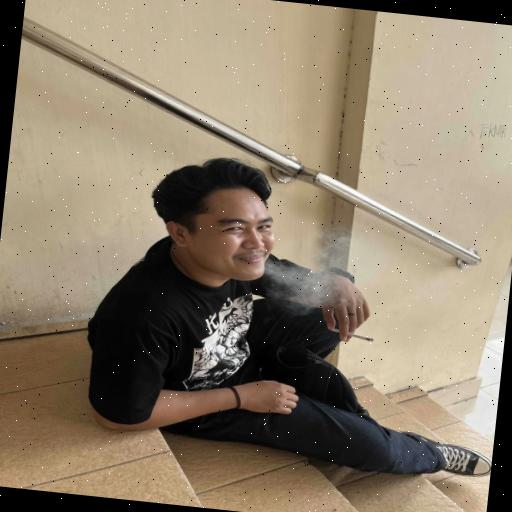terdeteksi pegang rokok: (306, 278, 388, 360)
